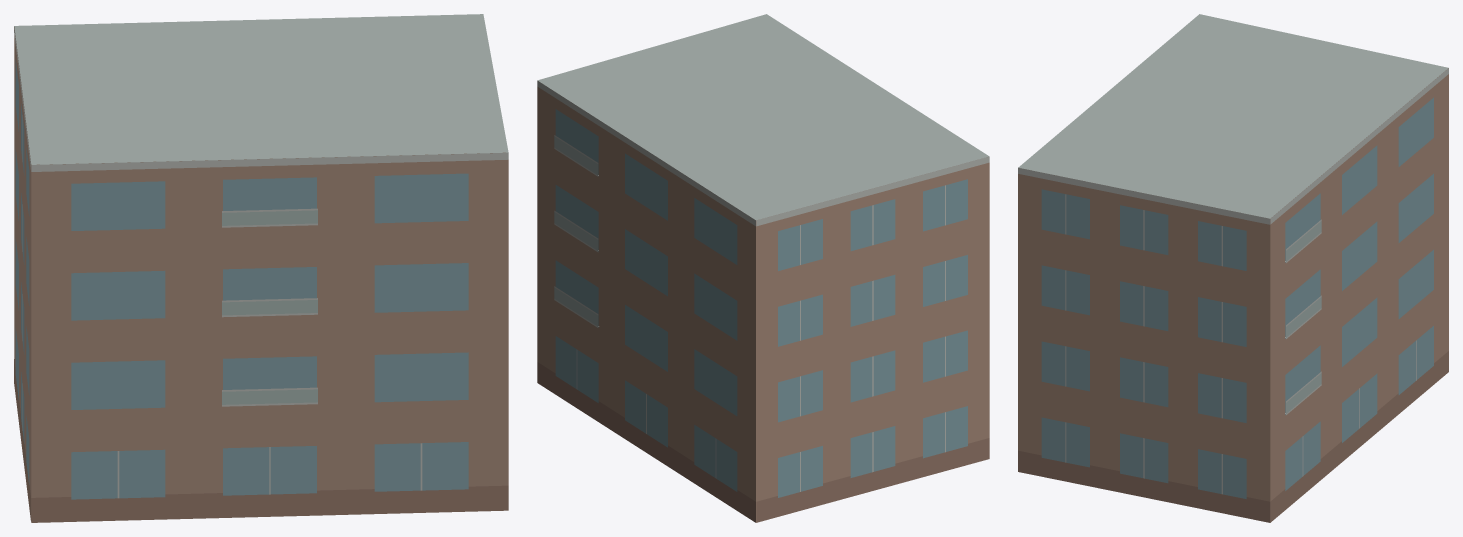
File: survey-upis-32956578.glb
3 views of the same model, side by side, from view 1: azimuth 30°, elevation 25°; view 2: azimuth 150°, elevation 25°; view 3: azimuth 270°, elevation 25° (orthographic). The views are drawn at different scales.
Parts seen in each view (by area): view 1: survey-upis-32956578.tmp; view 2: survey-upis-32956578.tmp; view 3: survey-upis-32956578.tmp.
Part boxes in pixels (<box>): survey-upis-32956578.tmp: <box>14,14,508,522</box>; survey-upis-32956578.tmp: <box>537,14,989,522</box>; survey-upis-32956578.tmp: <box>1018,14,1448,522</box>.
Size of the model in its own units: 17.62 by 12.2 by 15.67.
